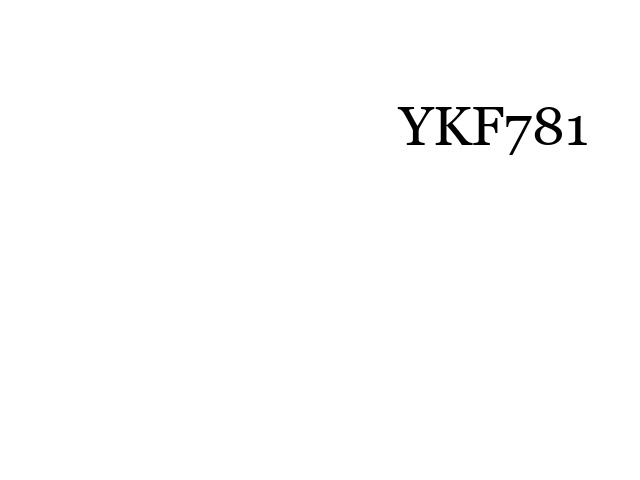OCR_AREA: (393, 103, 593, 159)
